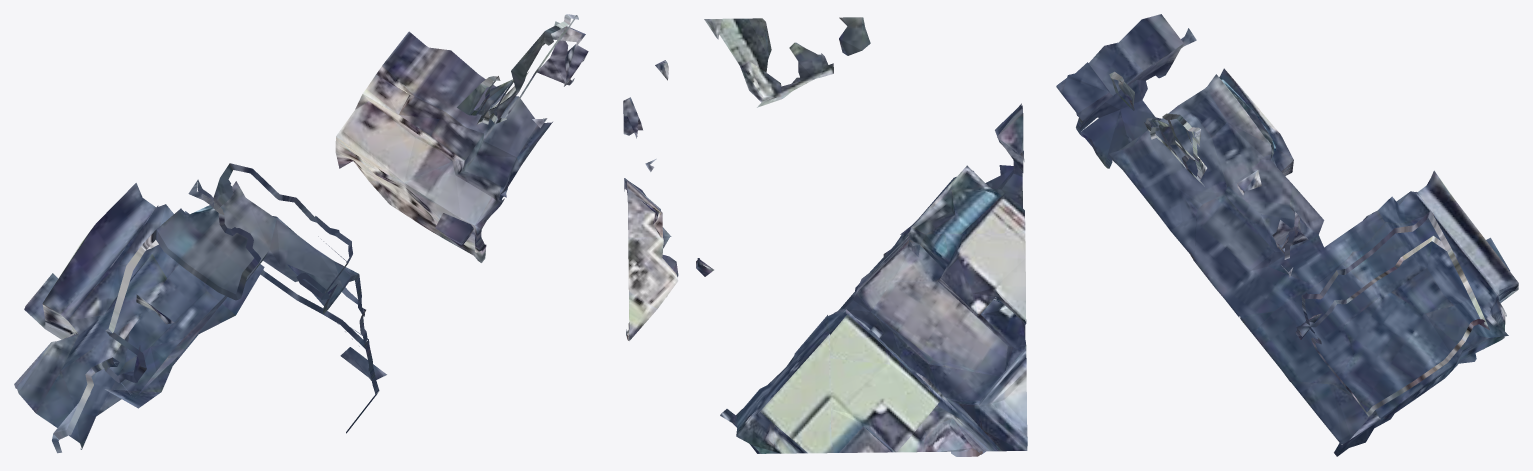
The picture shows the model from 3 angles, left to right: view 1: azimuth 30°, elevation 25°; view 2: azimuth 150°, elevation 25°; view 3: azimuth 270°, elevation 25°; orthographic projection. The views are drawn at different scales.
Bounding box in the file's own units: 42.73 × 34.75 × 37.39.
1 material, 1 textured.
